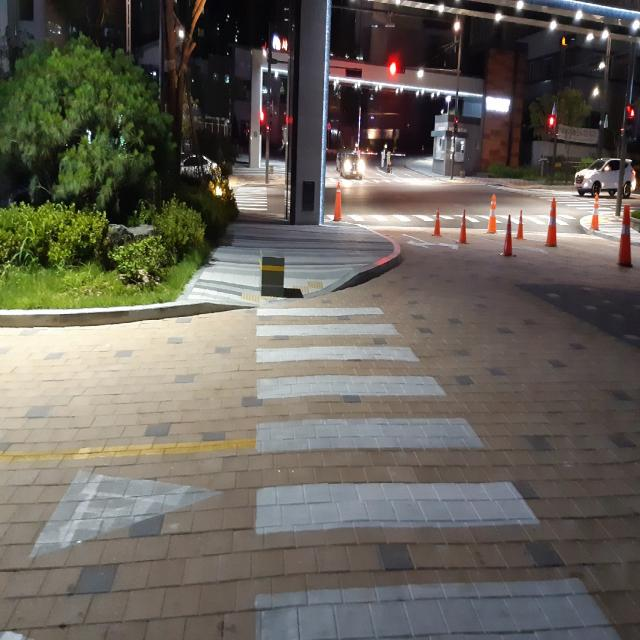횡단보도: (250, 299, 625, 640)
